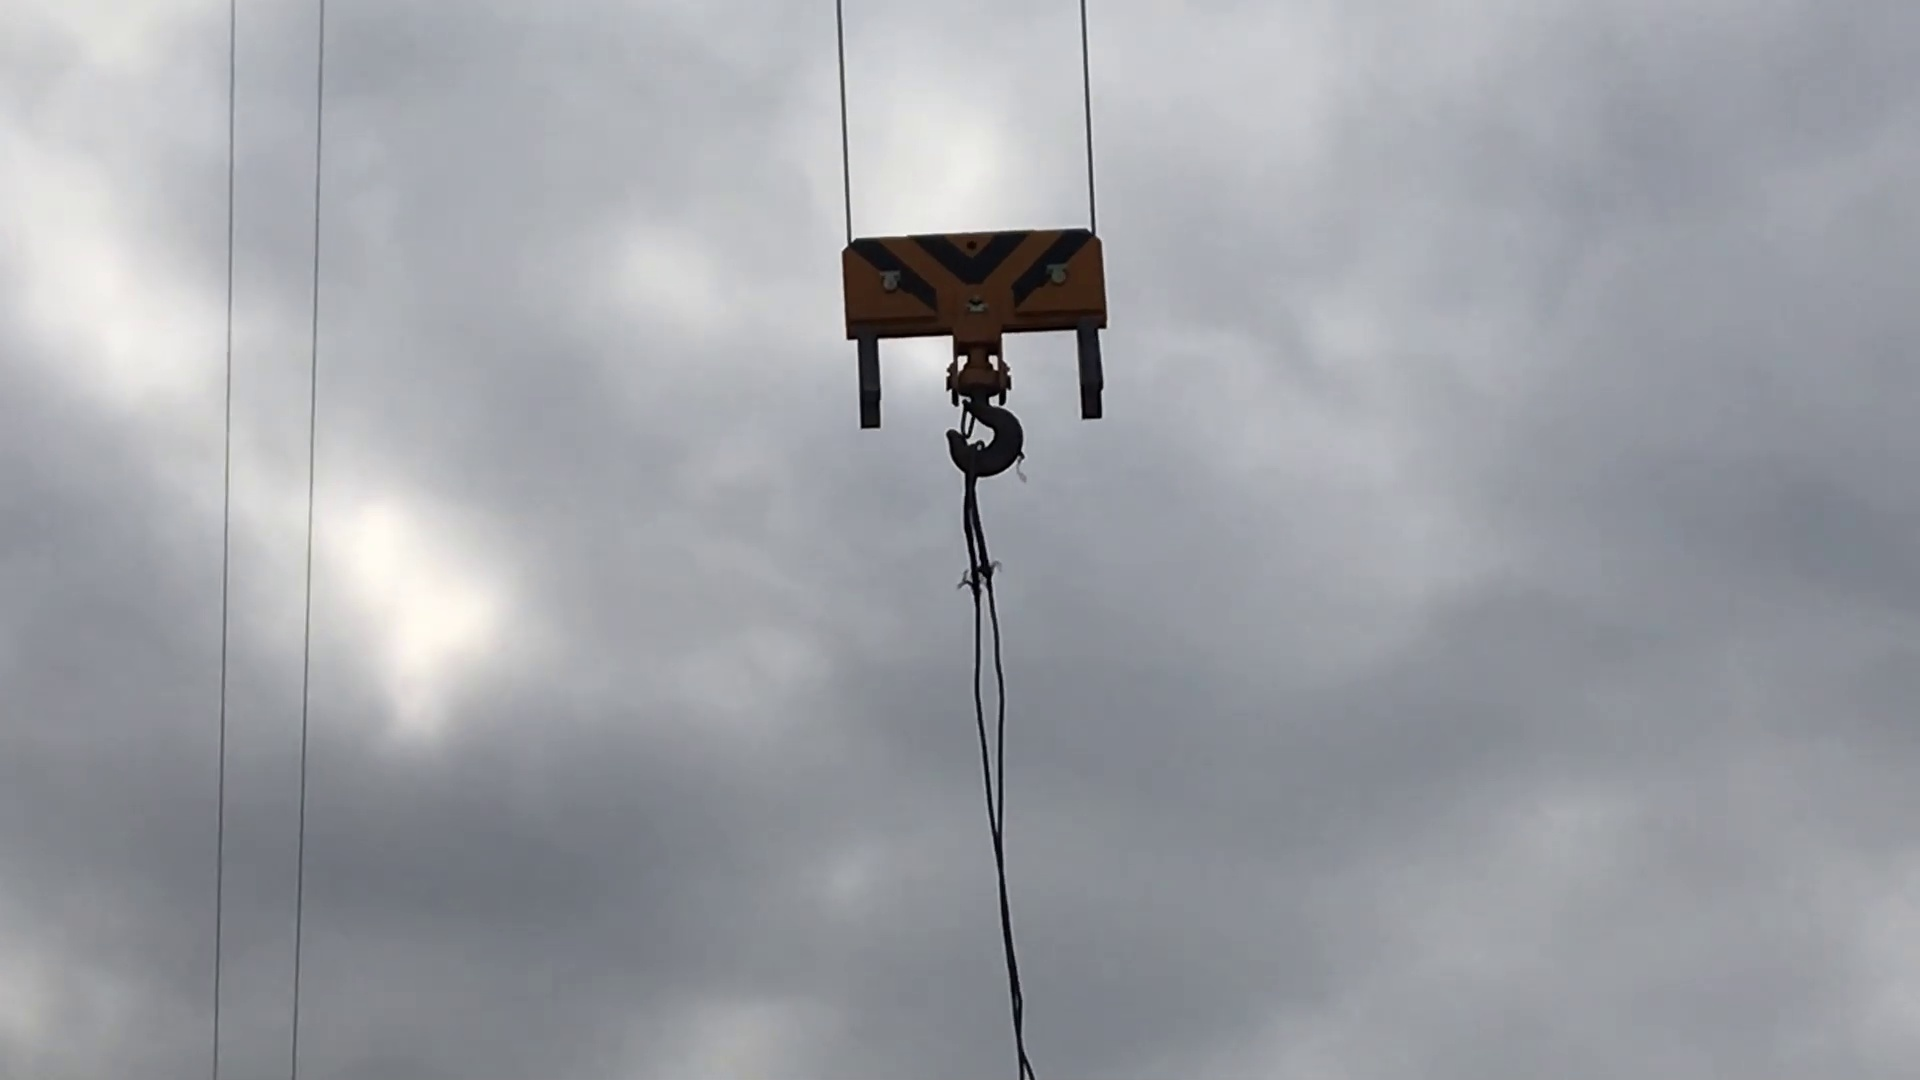hook: (831, 218, 1127, 493)
